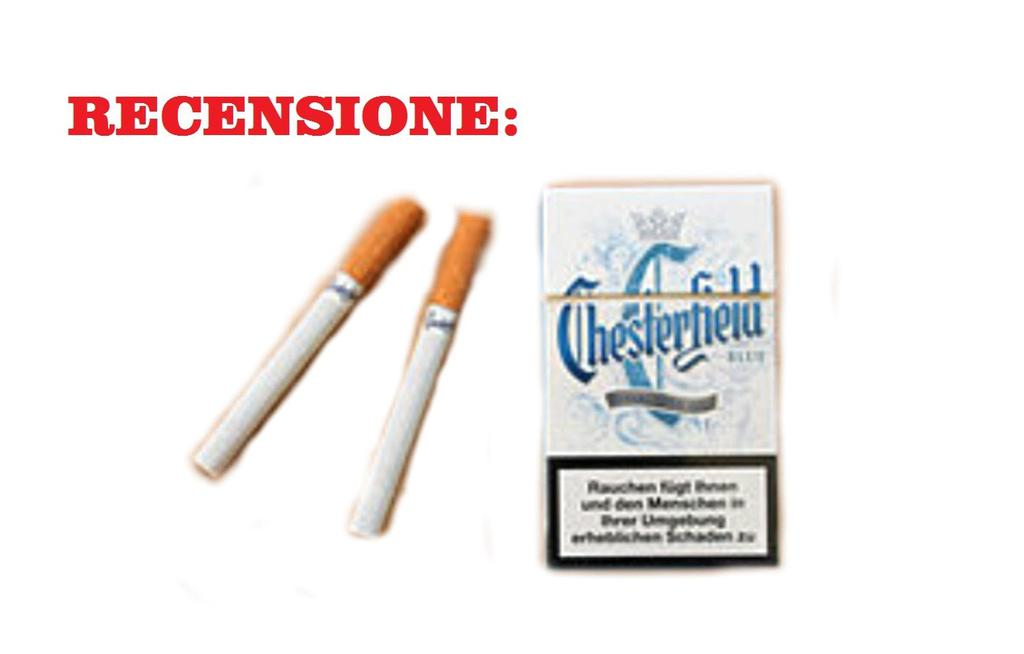chesterfield_blue: (538, 190, 777, 568)
